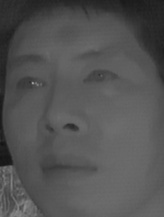eye: (81, 68, 121, 91), (13, 75, 50, 95)
mouth: (35, 147, 97, 186)
